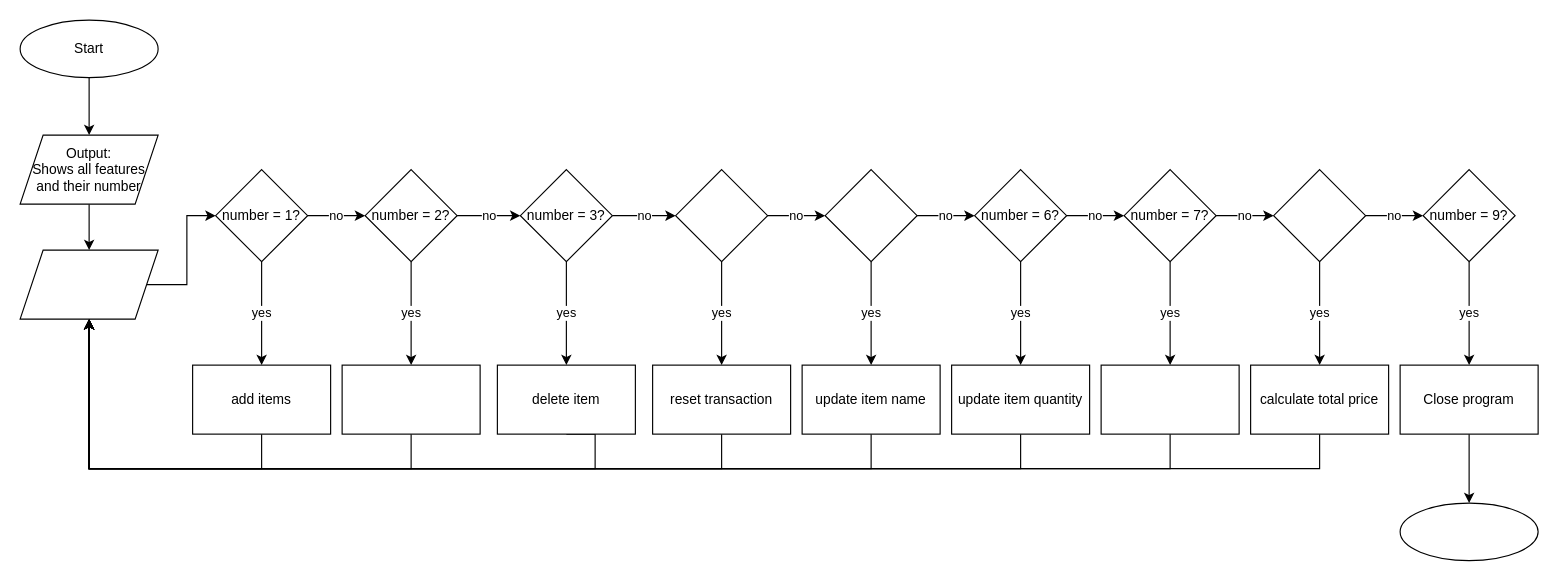
Some shapes in this 1558 by 581 pixel diagram are drawn without their labels. Here are the shapes that lost their labels. From the top down, the centre of each, then its label:
At pixel 721 215: "number = 4?".
At pixel 870 215: "number = 5?".
At pixel 1319 215: "number = 8?".
At pixel 88 284: "input: number".
At pixel 410 399: "check order".
At pixel 1169 399: "update item price".
At pixel 1468 531: "End".
